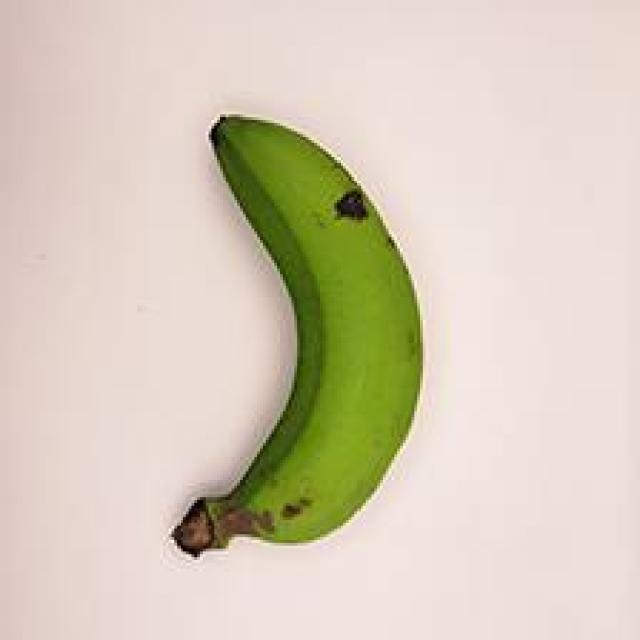Raw: (151, 100, 445, 574)
